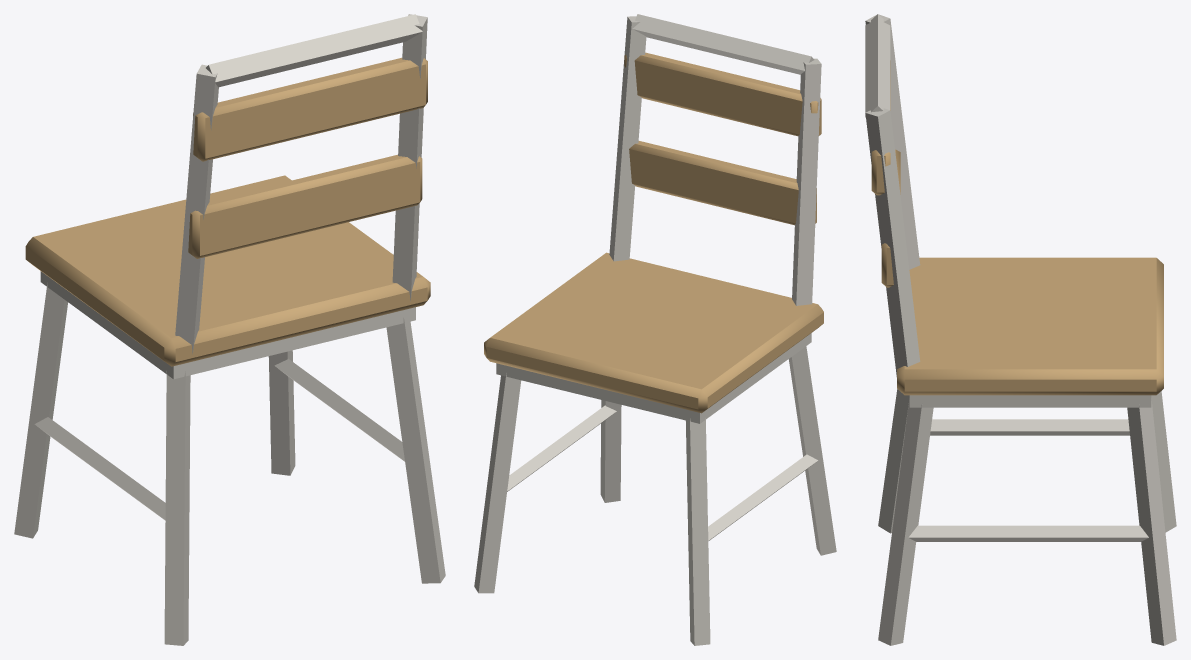
File: seat_cafe-table_v2.glb
3 renders of one model, left to right at view 1: azimuth 30°, elevation 25°; view 2: azimuth 150°, elevation 25°; view 3: azimuth 270°, elevation 25°, orthographic. The views are drawn at different scales.
Visible parts, largest first — view 1: body; view 2: body; view 3: body.
Part boxes in pixels (x1,y1,x2,y2): body: (14, 14, 445, 645); body: (474, 14, 836, 645); body: (865, 14, 1176, 645).
Bounding box in the file's own units: 0.4643 × 0.9122 × 0.4895.
